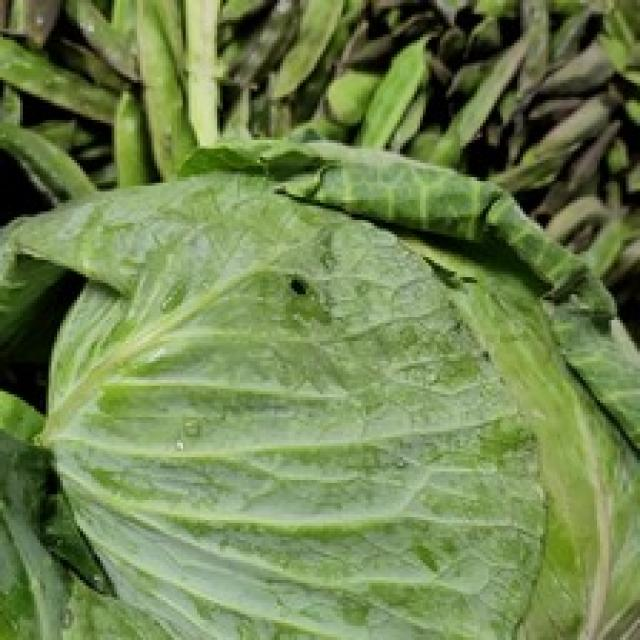Cabbage: (0, 135, 640, 637)
